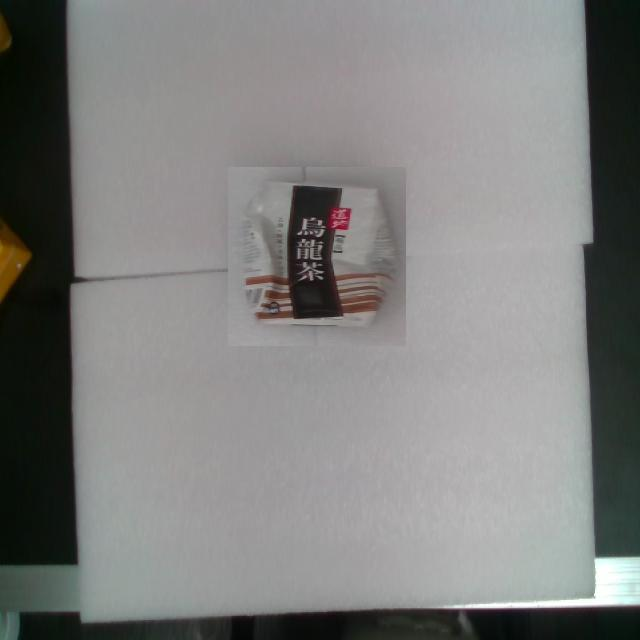juicebox: (227, 167, 406, 346)
